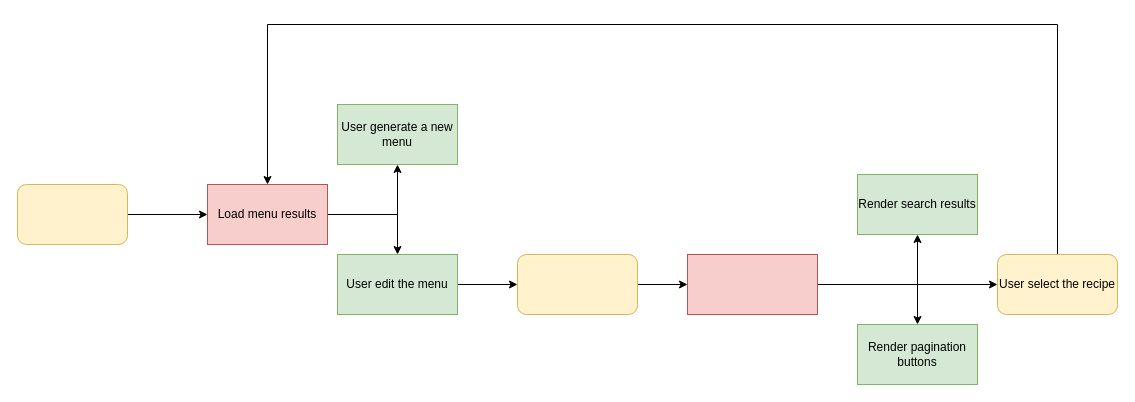
This 1135x402 diagram has some shape labels left out. Each missing label, with the centre of its shape:
Load search results: [752,284]
User generate a menu: [72,214]
User search recipes: [577,284]
